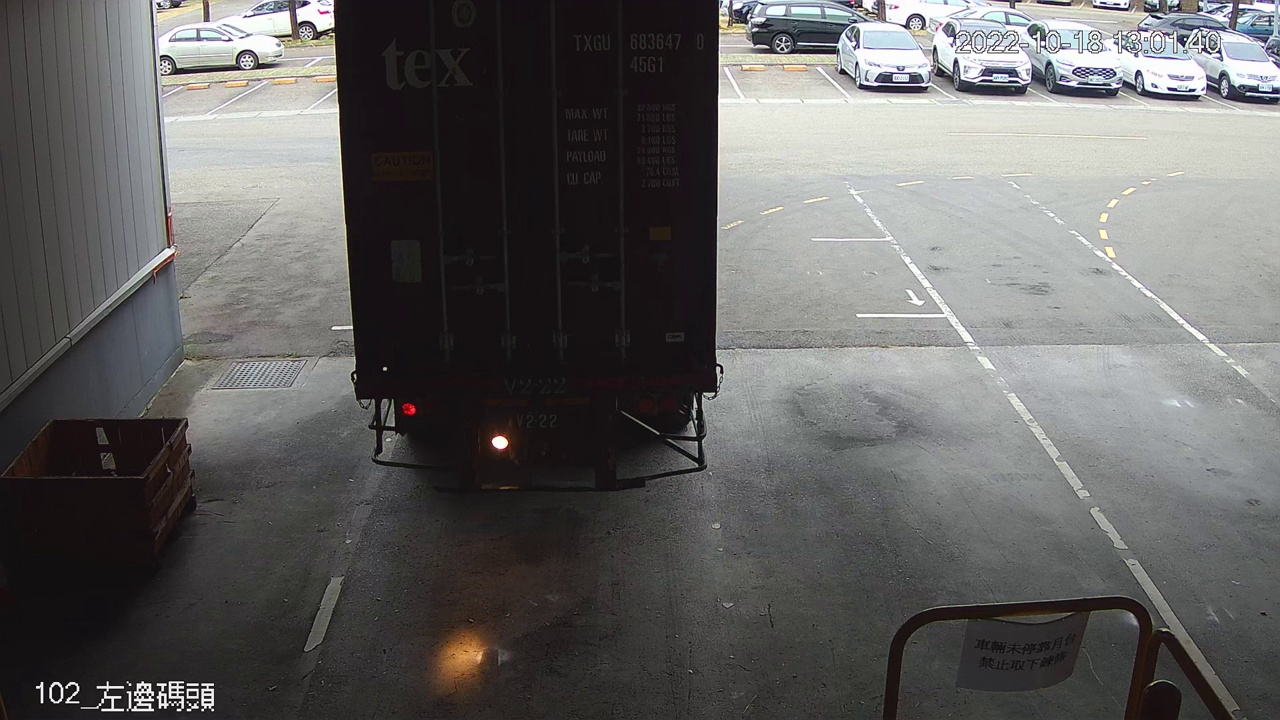container: (568, 25, 715, 80)
